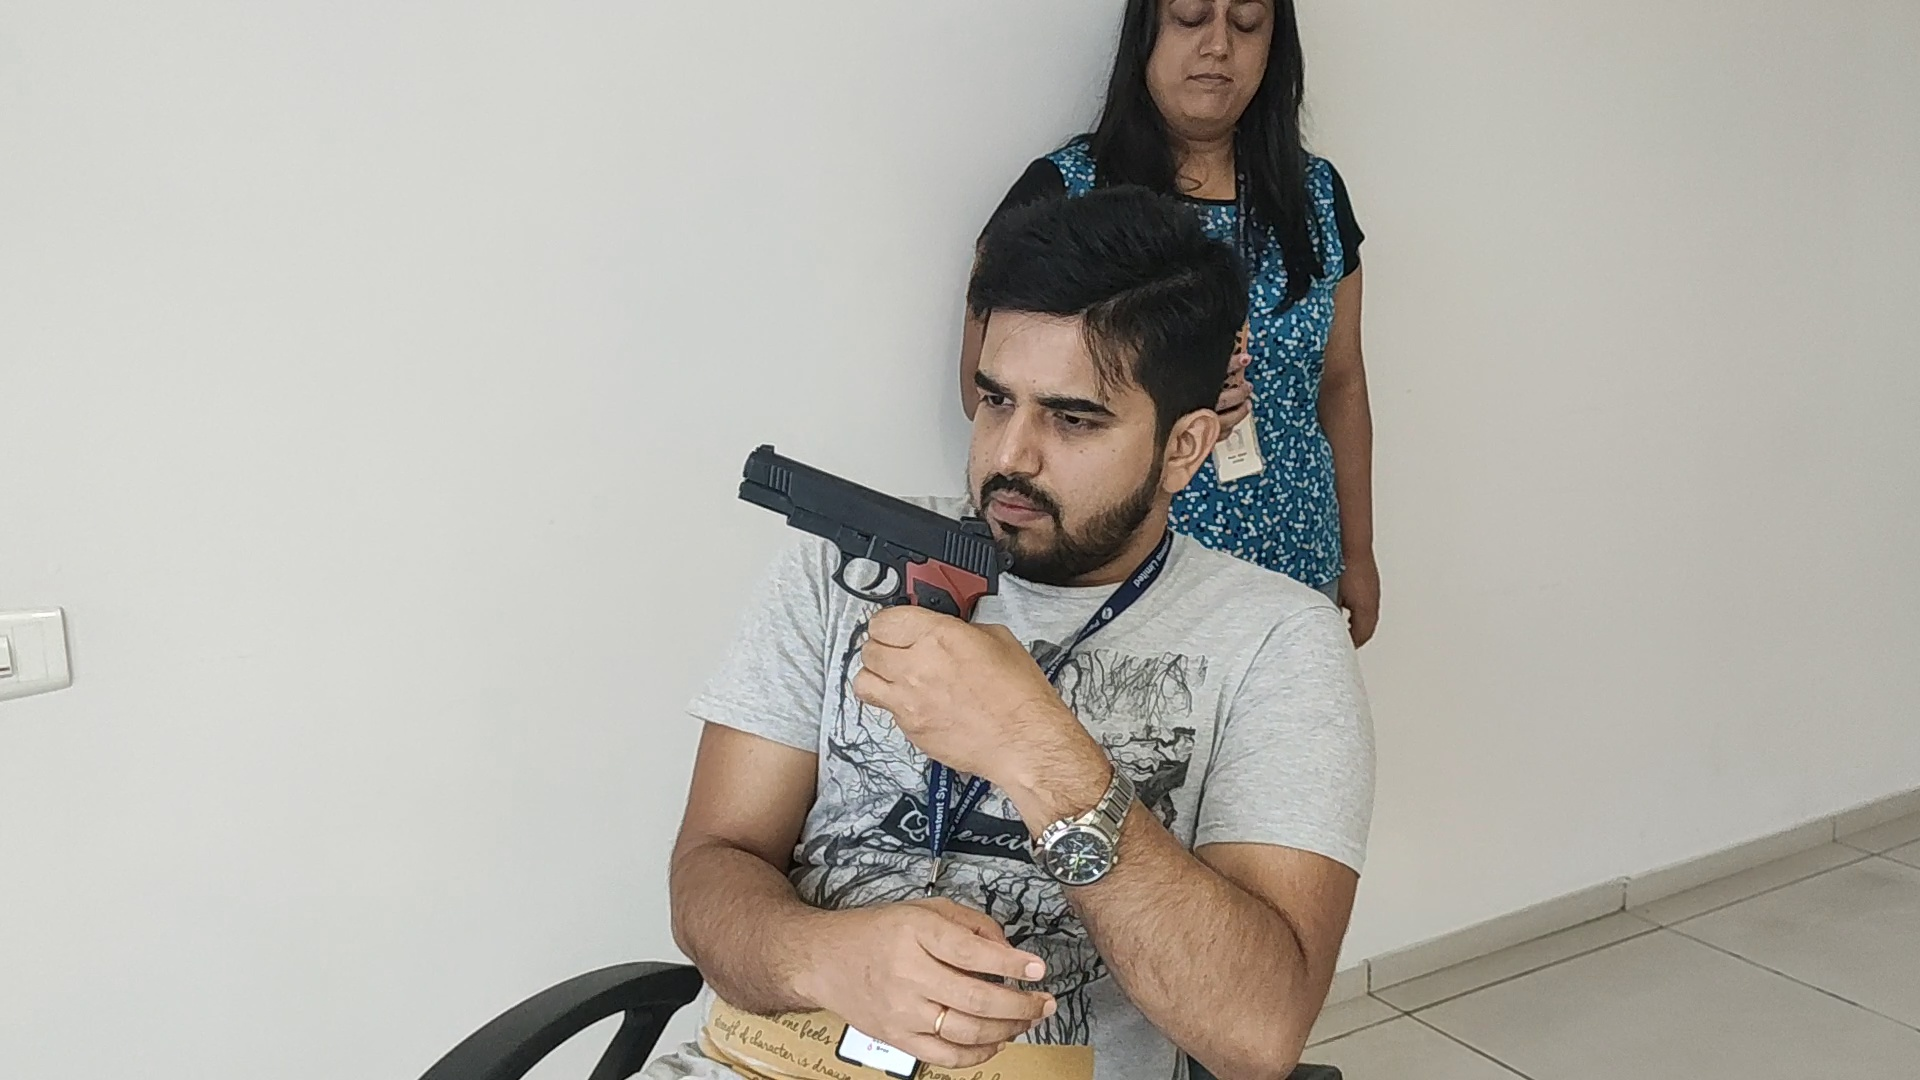gun: (738, 446, 976, 607)
